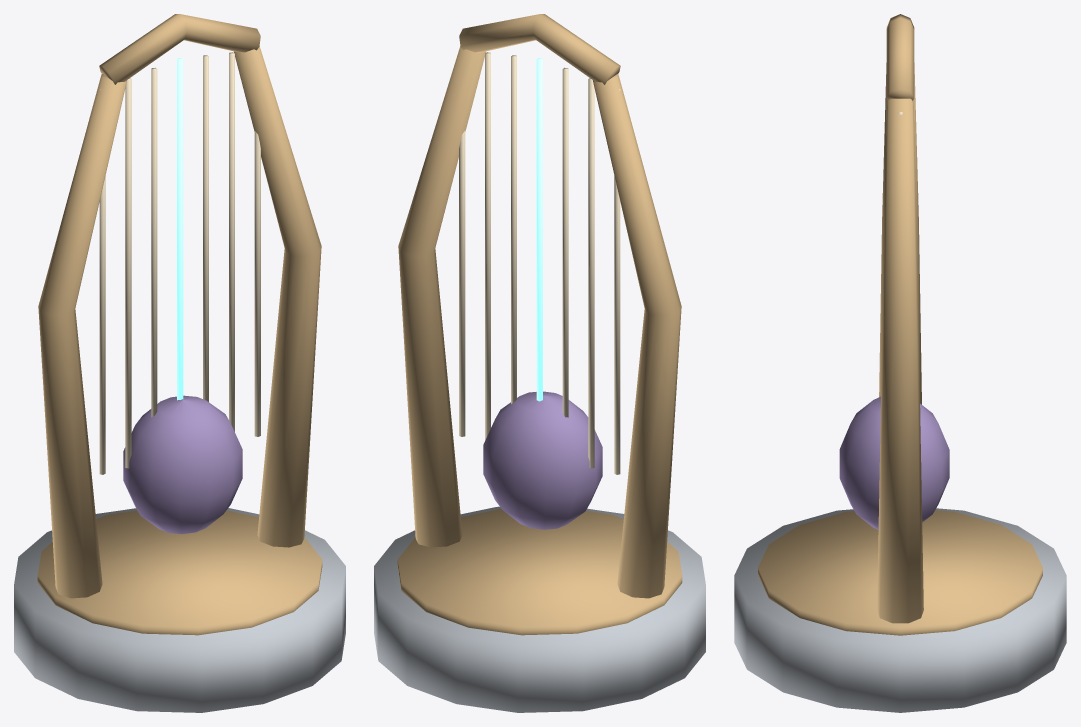
The model's file is prp_harp_plinth.glb.
3 renders of one model, left to right at view 1: azimuth 30°, elevation 25°; view 2: azimuth 150°, elevation 25°; view 3: azimuth 270°, elevation 25°, orthographic.
Parts seen in each view (by area): view 1: PRP_harp_plinth_foot, PRP_harp_plinth_gold_ring, PRP_harp_plinth_harp_leg_0, PRP_harp_plinth_harp_leg_1, PRP_harp_plinth_heart, PRP_harp_plinth_harp_bridge, PRP_harp_plinth_string_1, PRP_harp_plinth_string_2, PRP_harp_plinth_string_3, PRP_harp_plinth_string_5, PRP_harp_plinth_string_6, PRP_harp_plinth_string_4 (+1 smaller); view 2: PRP_harp_plinth_foot, PRP_harp_plinth_gold_ring, PRP_harp_plinth_harp_leg_0, PRP_harp_plinth_harp_leg_1, PRP_harp_plinth_heart, PRP_harp_plinth_harp_bridge, PRP_harp_plinth_string_1, PRP_harp_plinth_string_2, PRP_harp_plinth_string_3, PRP_harp_plinth_string_5, PRP_harp_plinth_string_6, PRP_harp_plinth_string_4 (+1 smaller); view 3: PRP_harp_plinth_foot, PRP_harp_plinth_gold_ring, PRP_harp_plinth_harp_leg_1, PRP_harp_plinth_heart, PRP_harp_plinth_harp_bridge, PRP_harp_plinth_harp_leg_0.
Part boxes in pixels (x1,y1,x2,y2): PRP_harp_plinth_foot: (14, 508, 345, 712); PRP_harp_plinth_gold_ring: (37, 510, 322, 635); PRP_harp_plinth_harp_leg_0: (38, 74, 126, 598); PRP_harp_plinth_harp_leg_1: (234, 46, 321, 547); PRP_harp_plinth_heart: (123, 395, 242, 534); PRP_harp_plinth_harp_bridge: (99, 14, 260, 84); PRP_harp_plinth_string_1: (125, 78, 131, 468); PRP_harp_plinth_string_2: (151, 67, 157, 417); PRP_harp_plinth_string_3: (177, 58, 183, 400); PRP_harp_plinth_string_5: (229, 52, 234, 431); PRP_harp_plinth_string_6: (254, 130, 260, 436); PRP_harp_plinth_string_4: (203, 55, 208, 401); PRP_harp_plinth_foot: (374, 506, 705, 712); PRP_harp_plinth_gold_ring: (397, 509, 682, 635); PRP_harp_plinth_harp_leg_0: (593, 74, 681, 598); PRP_harp_plinth_harp_leg_1: (398, 46, 485, 547); PRP_harp_plinth_heart: (483, 391, 602, 529); PRP_harp_plinth_harp_bridge: (459, 14, 620, 84); PRP_harp_plinth_string_1: (588, 78, 594, 468); PRP_harp_plinth_string_2: (562, 67, 568, 417); PRP_harp_plinth_string_3: (536, 58, 542, 401); PRP_harp_plinth_string_5: (485, 52, 490, 440); PRP_harp_plinth_string_6: (459, 130, 465, 436); PRP_harp_plinth_string_4: (511, 55, 516, 403); PRP_harp_plinth_foot: (734, 508, 1066, 712); PRP_harp_plinth_gold_ring: (758, 510, 1042, 635); PRP_harp_plinth_harp_leg_1: (877, 98, 923, 623); PRP_harp_plinth_heart: (839, 396, 949, 529); PRP_harp_plinth_harp_bridge: (886, 14, 914, 100); PRP_harp_plinth_harp_leg_0: (879, 63, 921, 404).
Bounding box in the file's own units: 1.12 × 2.32 × 1.12.
